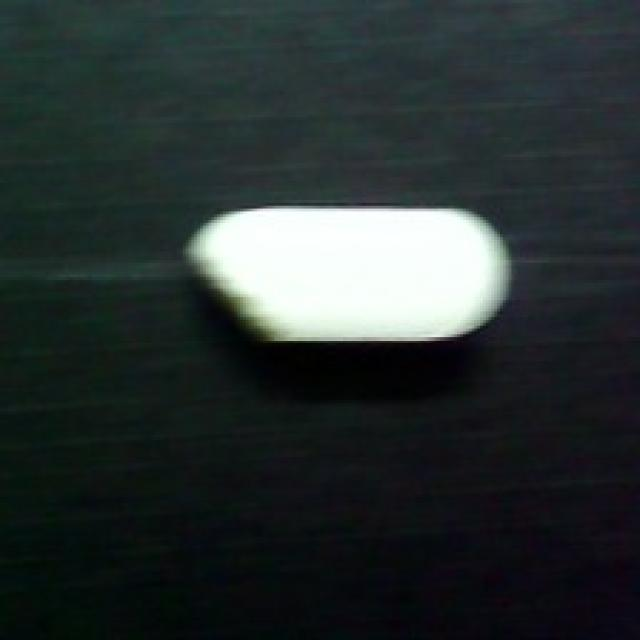defected: (183, 191, 523, 349)
